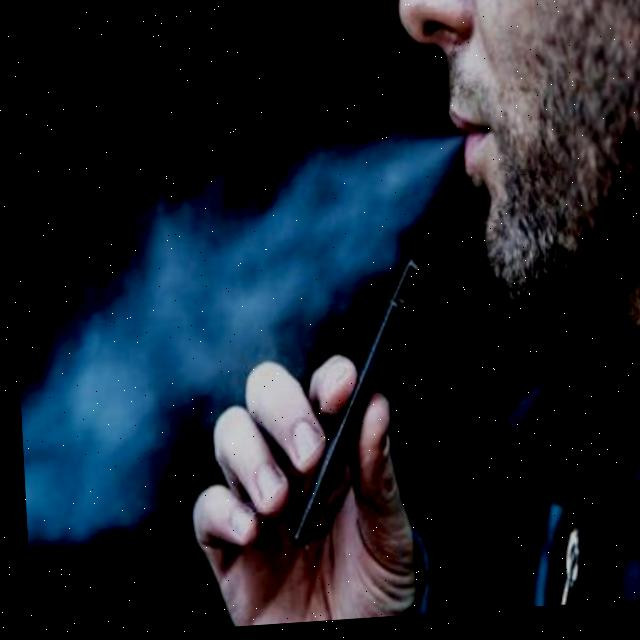vape: (273, 262, 432, 557)
